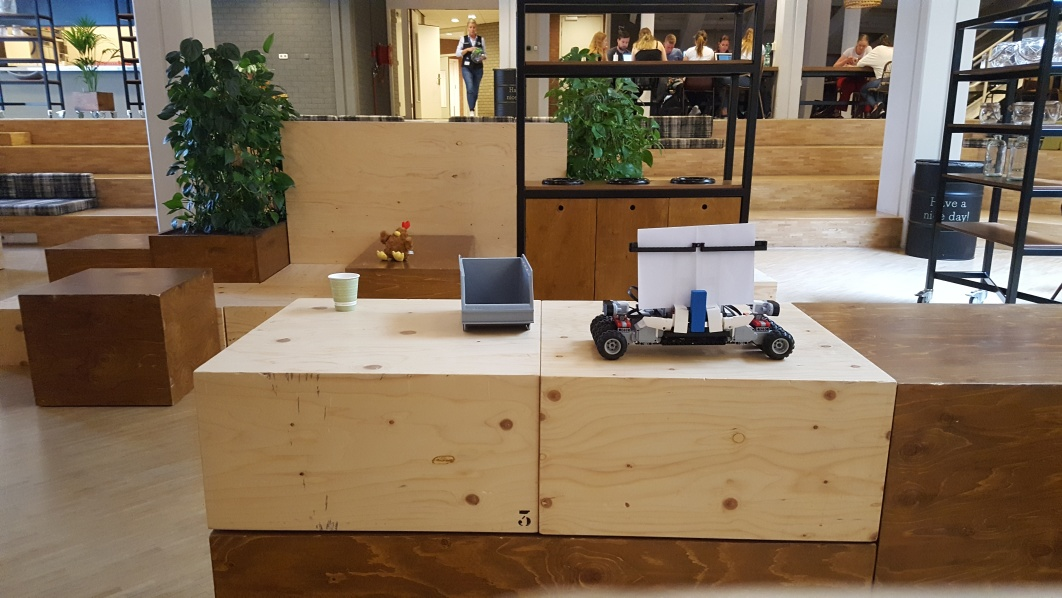beam: (688, 288, 707, 337)
chicken: (375, 222, 417, 261)
cup: (325, 268, 358, 314)
tray: (455, 254, 540, 329)
